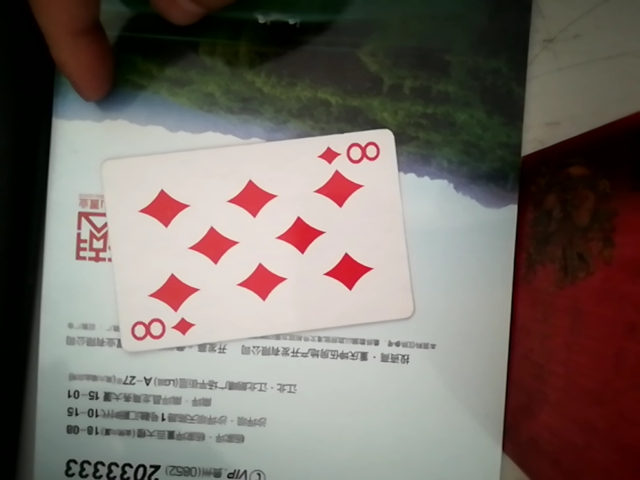fk 8: (92, 127, 417, 355)
